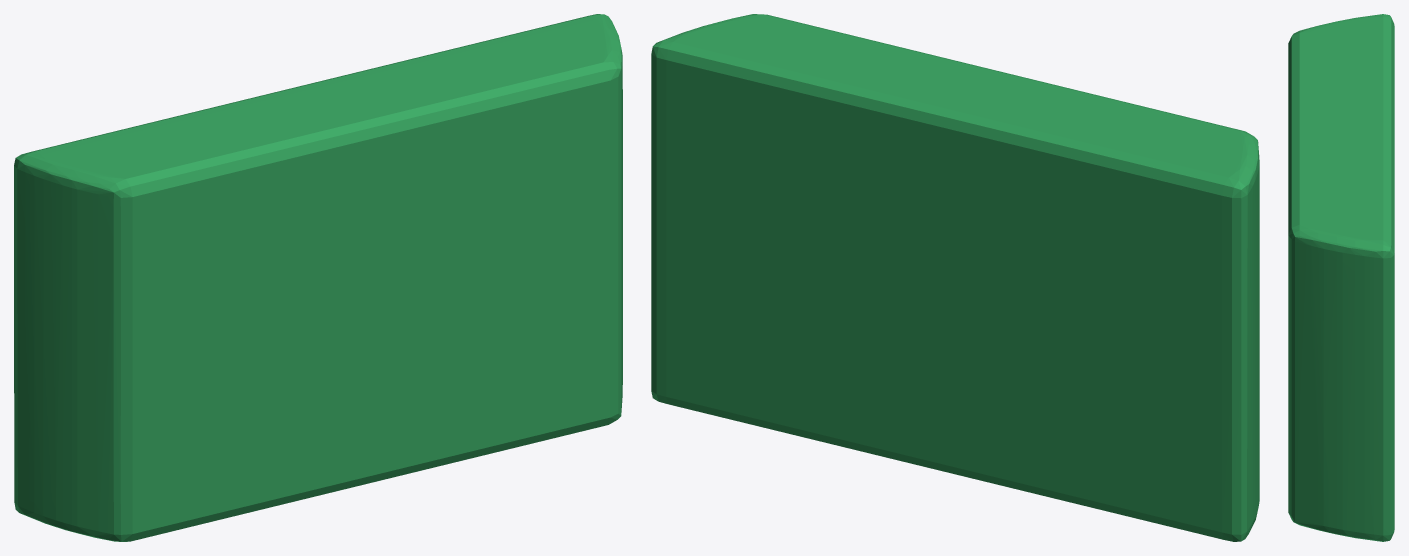
Rendered from pelvis_part_10.obj.
The picture shows the model from 3 angles, left to right: view 1: azimuth 30°, elevation 25°; view 2: azimuth 150°, elevation 25°; view 3: azimuth 270°, elevation 25°; orthographic projection. The views are drawn at different scales.
Size of the model in its own units: 0.1353 by 0.0791 by 0.0256.
